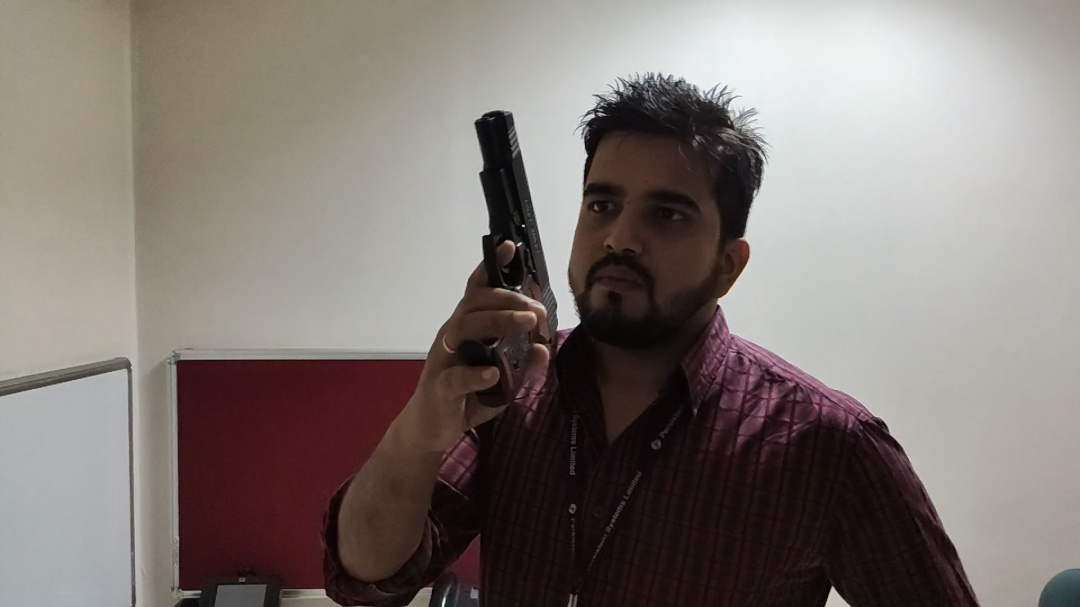gun: (469, 106, 566, 415)
